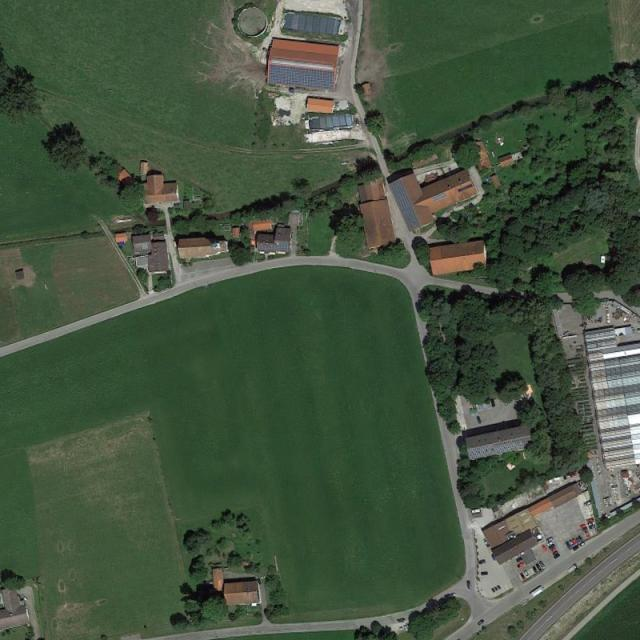vehicle: (535, 563, 543, 573), (445, 593, 457, 599), (538, 561, 546, 570), (532, 566, 539, 574), (523, 570, 530, 578), (520, 574, 527, 582), (569, 540, 576, 548), (490, 399, 496, 408), (471, 509, 481, 514), (478, 619, 485, 626), (578, 535, 585, 542), (584, 500, 591, 507), (478, 559, 486, 565), (576, 537, 582, 545), (572, 538, 578, 546), (566, 542, 572, 550), (546, 538, 554, 544), (477, 416, 482, 425), (601, 254, 606, 263), (554, 553, 561, 559), (549, 544, 556, 550), (467, 581, 472, 589), (586, 518, 594, 523), (589, 525, 597, 530), (518, 562, 524, 568), (573, 545, 579, 551), (542, 545, 547, 552), (553, 550, 558, 556), (546, 542, 553, 546), (482, 571, 488, 575), (588, 522, 594, 526)
